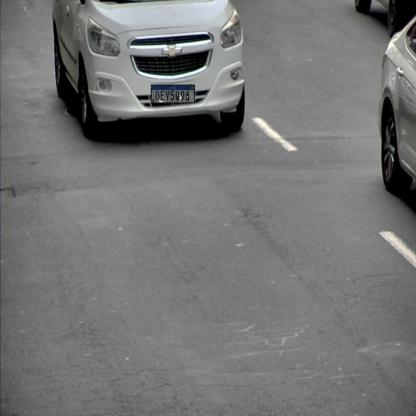PlacaM: (151, 85, 195, 103)
